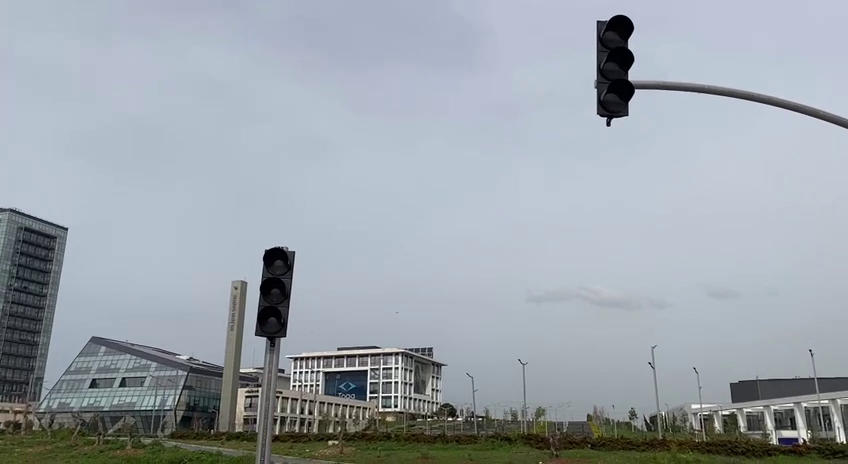trafficLight: (592, 11, 638, 129), (251, 243, 300, 344)
